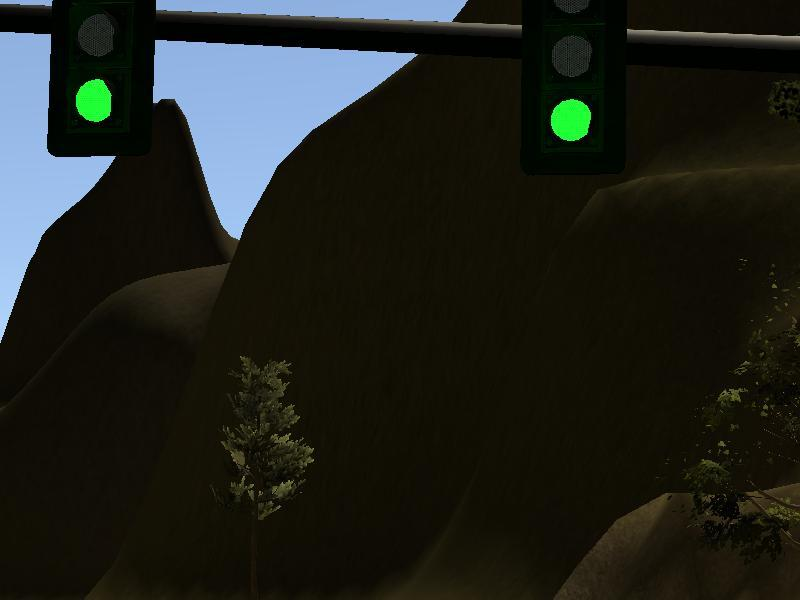Green: (519, 1, 626, 173), (48, 1, 152, 157)
